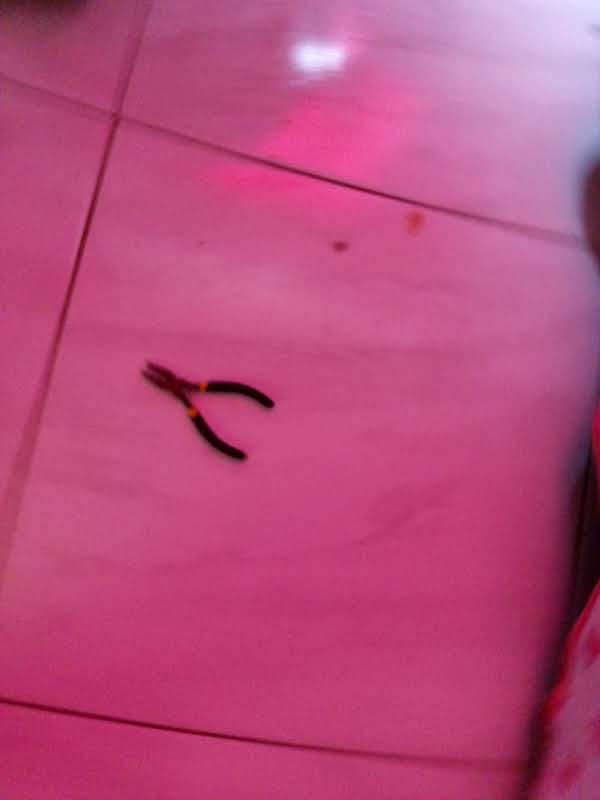Pinzas: (141, 360, 275, 460)
